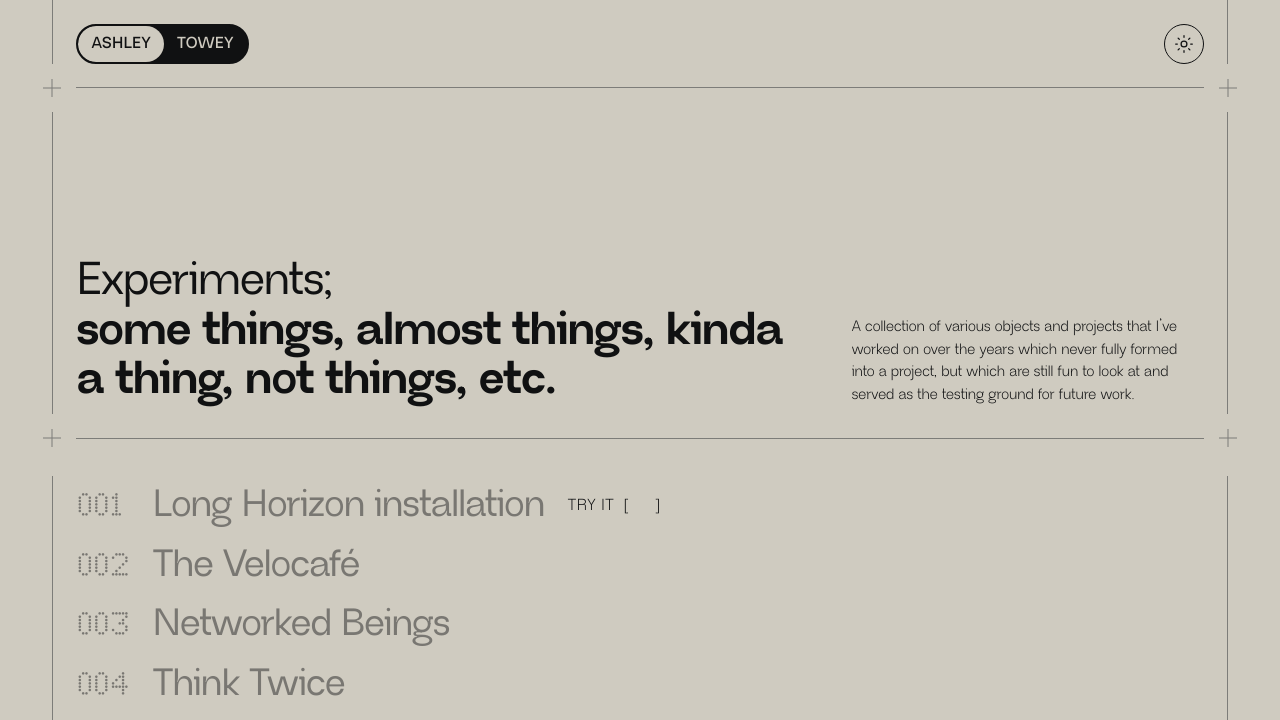
Test case: experiments › clicking a row makes it the active experiment
Click the button "001 Long Horizon installation". click: {"x": 311, "y": 506}
box: [76,482,545,530]
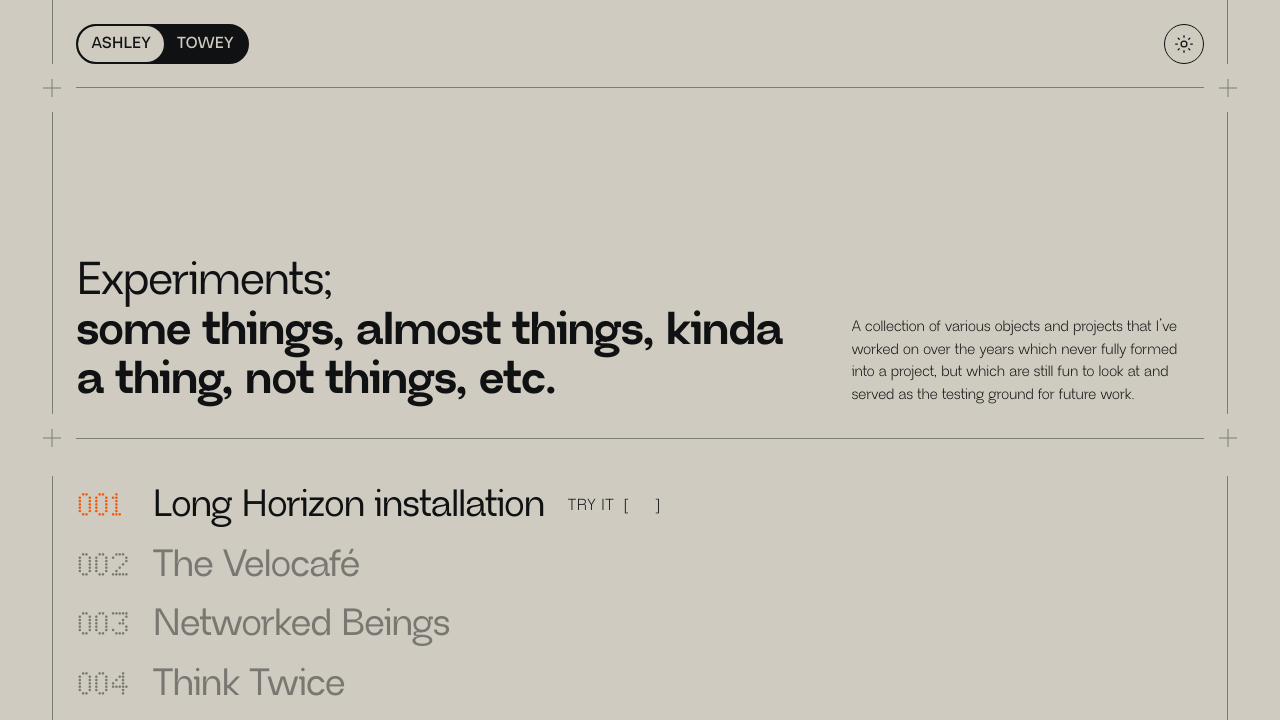
Now the button "001 Long Horizon installation" is pressed, box [76,482,545,530]
Click the button "002 The Velocafé". click: {"x": 218, "y": 565}
box: [76,542,359,589]
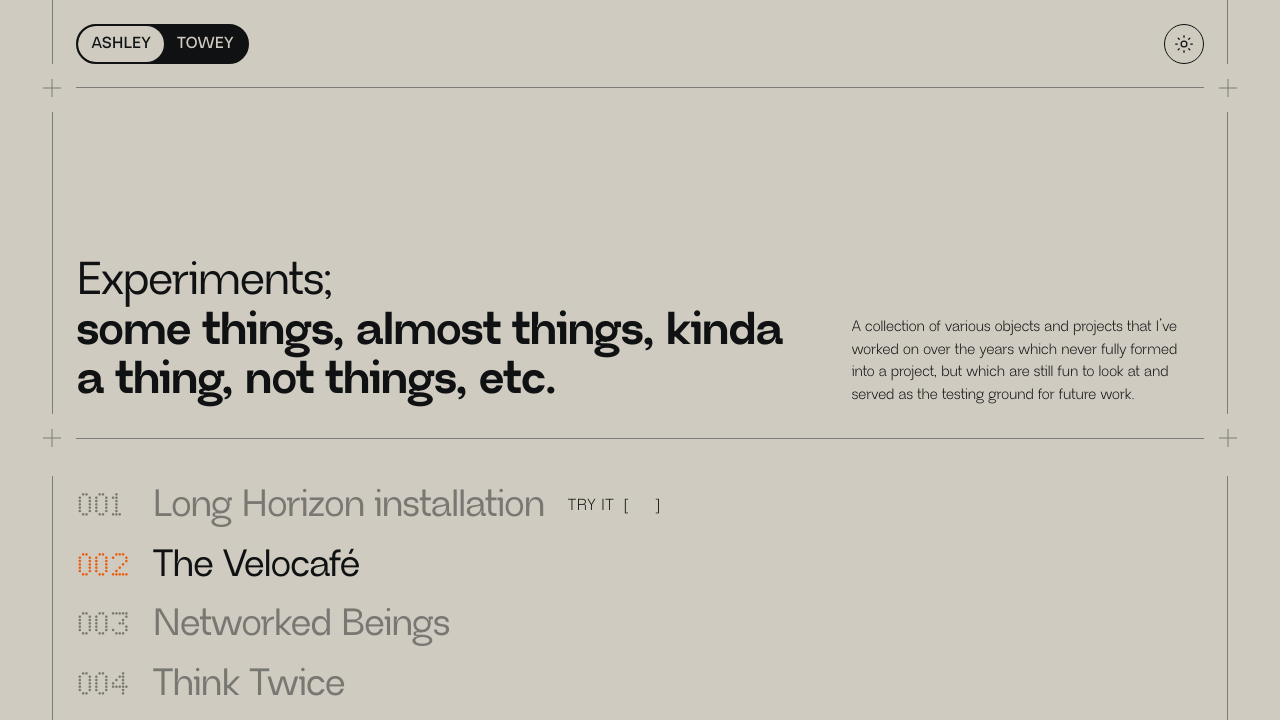
Now the button "001 Long Horizon installation" is not pressed, box [76,482,545,530]
Now the button "002 The Velocafé" is pressed, box [76,542,359,589]
